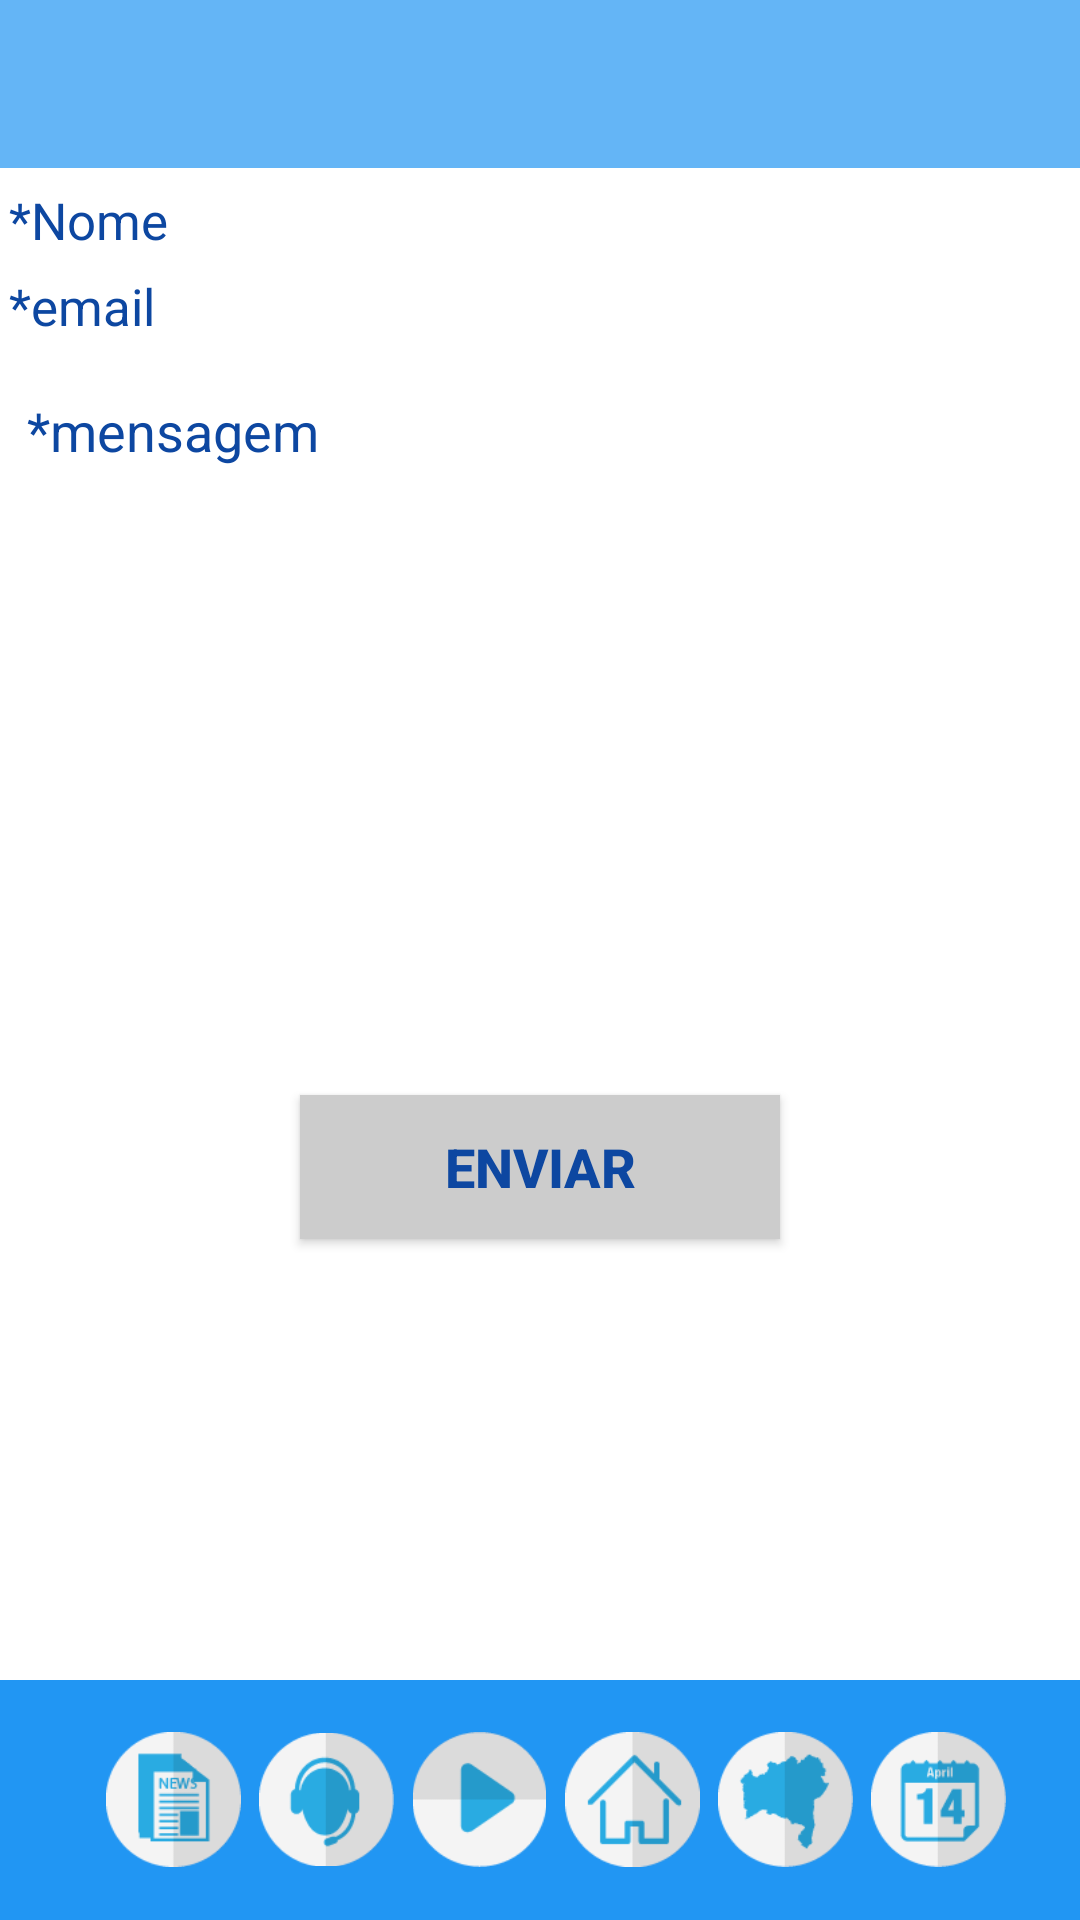

Where to tap for icons on this 1080*1920 app screen, as (x,y):
agenda: (938,1799)
linhadir: (326,1799)
mapas: (785,1799)
portal: (632,1799)
webtv: (479,1799)
